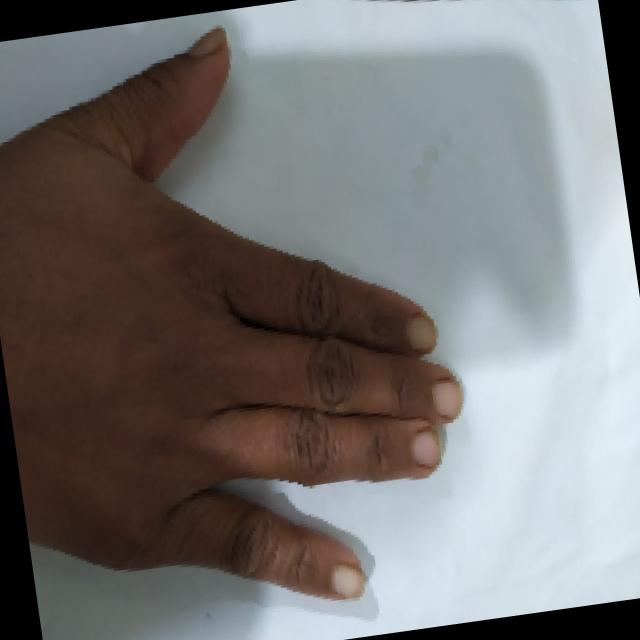Nail: (410, 432, 444, 468), (431, 380, 464, 417), (329, 565, 364, 598), (407, 314, 437, 352), (186, 28, 225, 57)
